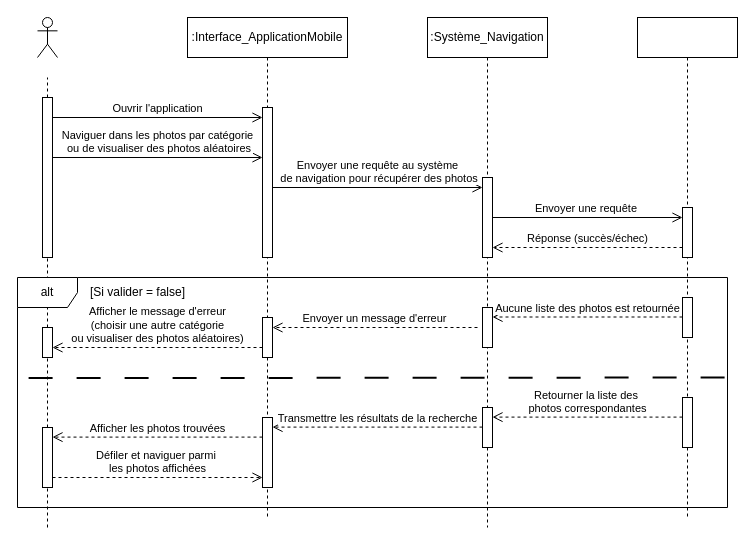
Some shapes in this 756 by 546 pixel diagram are drawn without their labels. Here are the shapes that lost their labels. From the top down, the centre of each, then its label:
(x=47, y=37): Utilisateur
(x=687, y=267): :API_Unsplash
